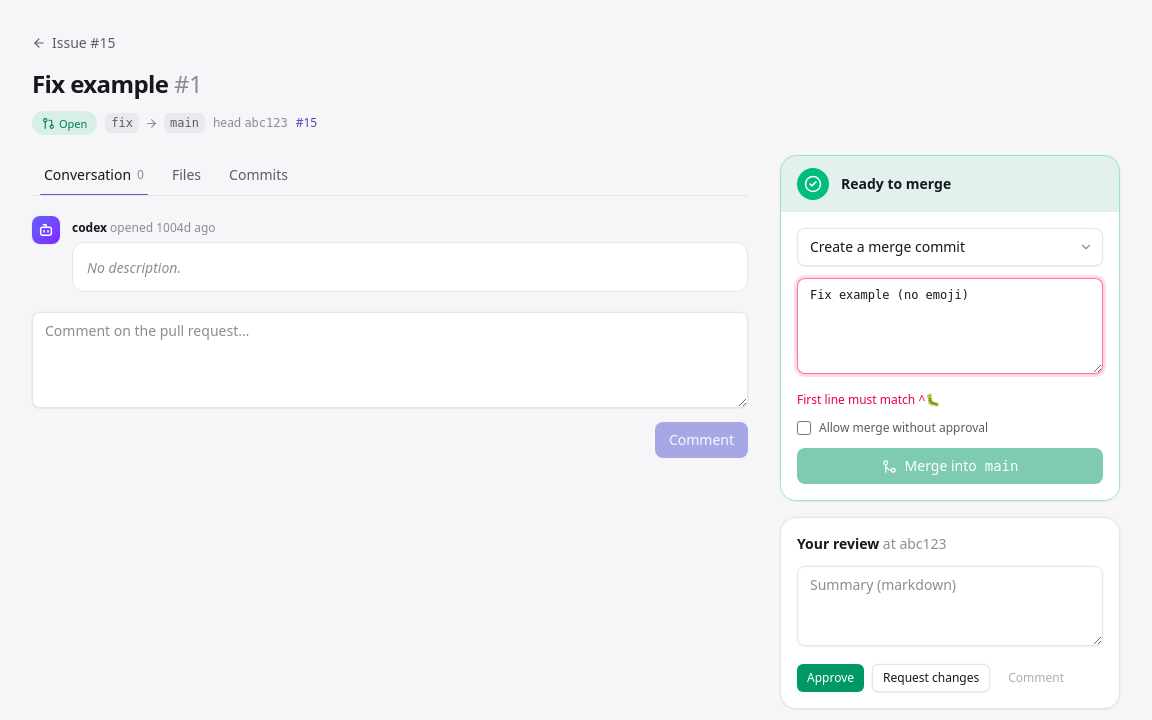
Scenario: PullPage merge box strategy switching and gating › switching back to merge from rebase restores message validation
The image size is (1152, 720).
Check: the text "Ready to merge" is shown, box [841, 174, 951, 194]
Select "Rebase and merge" in the dropdown at x=950, y=247, box [797, 228, 1103, 266]
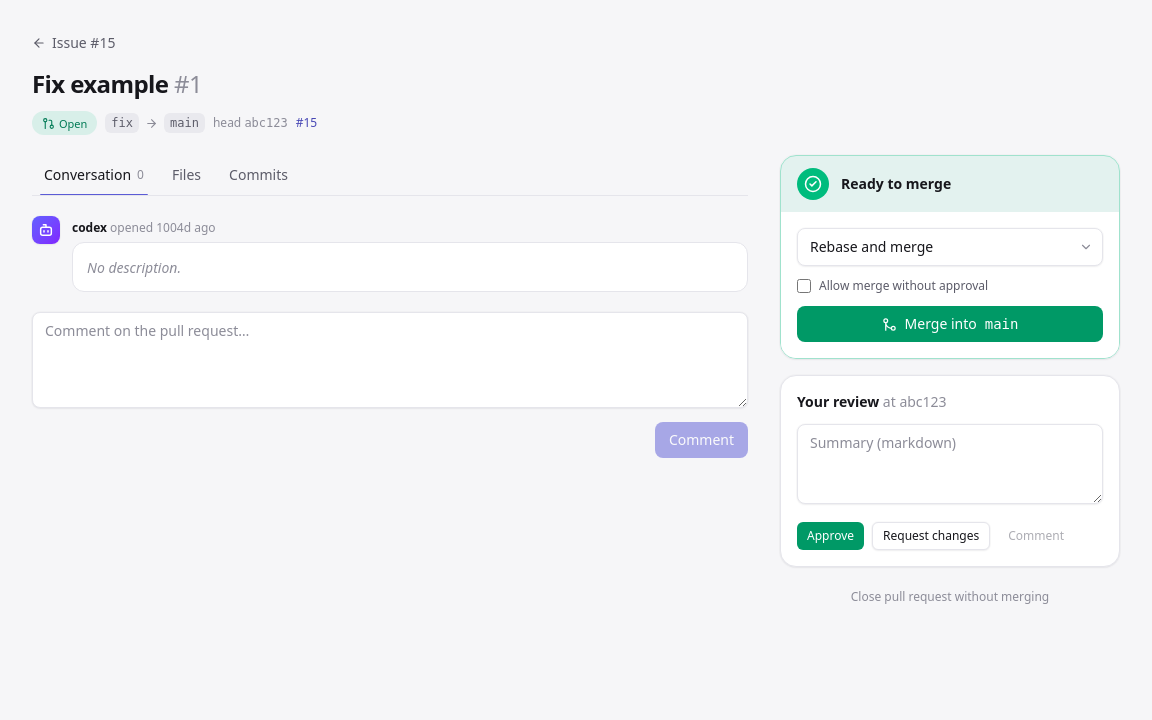
Select "Squash and merge" in the dropdown at x=950, y=247, box [797, 228, 1103, 266]
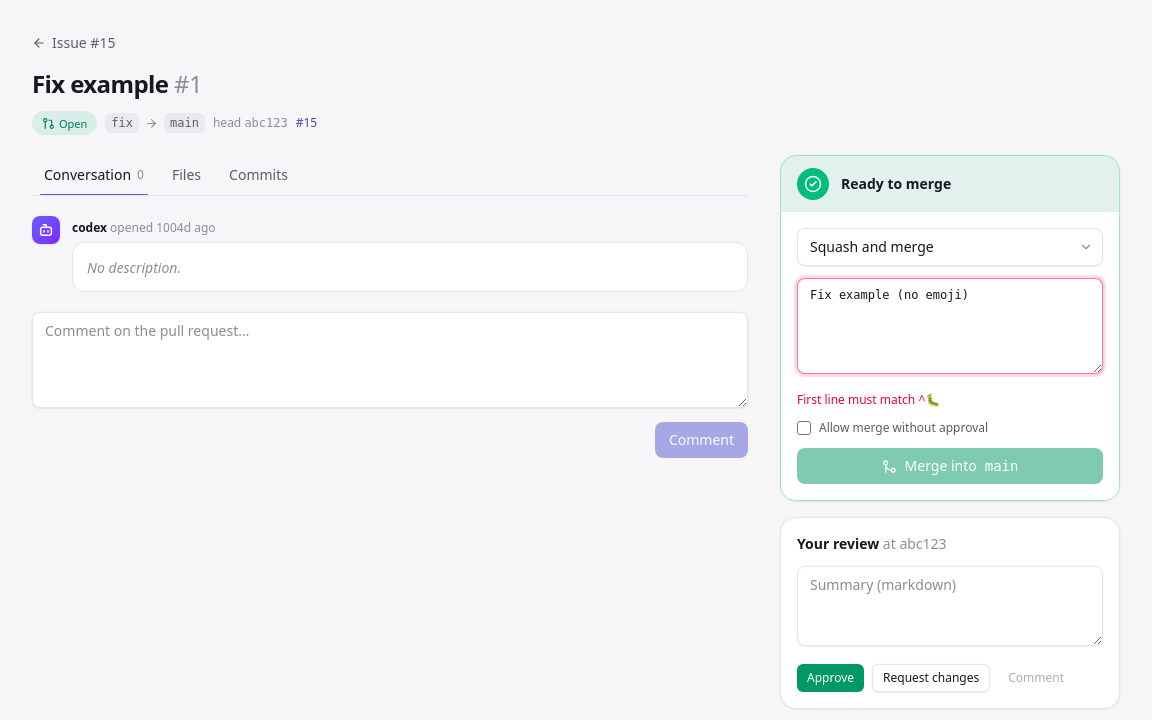
Check: the text box with placeholder "Leave blank to generate" is shown, box [797, 278, 1103, 374]
Check: the text "First line must match ^🐛" is shown, box [797, 391, 940, 408]
Check: the button "Merge into main" is disabled, box [797, 448, 1103, 484]
